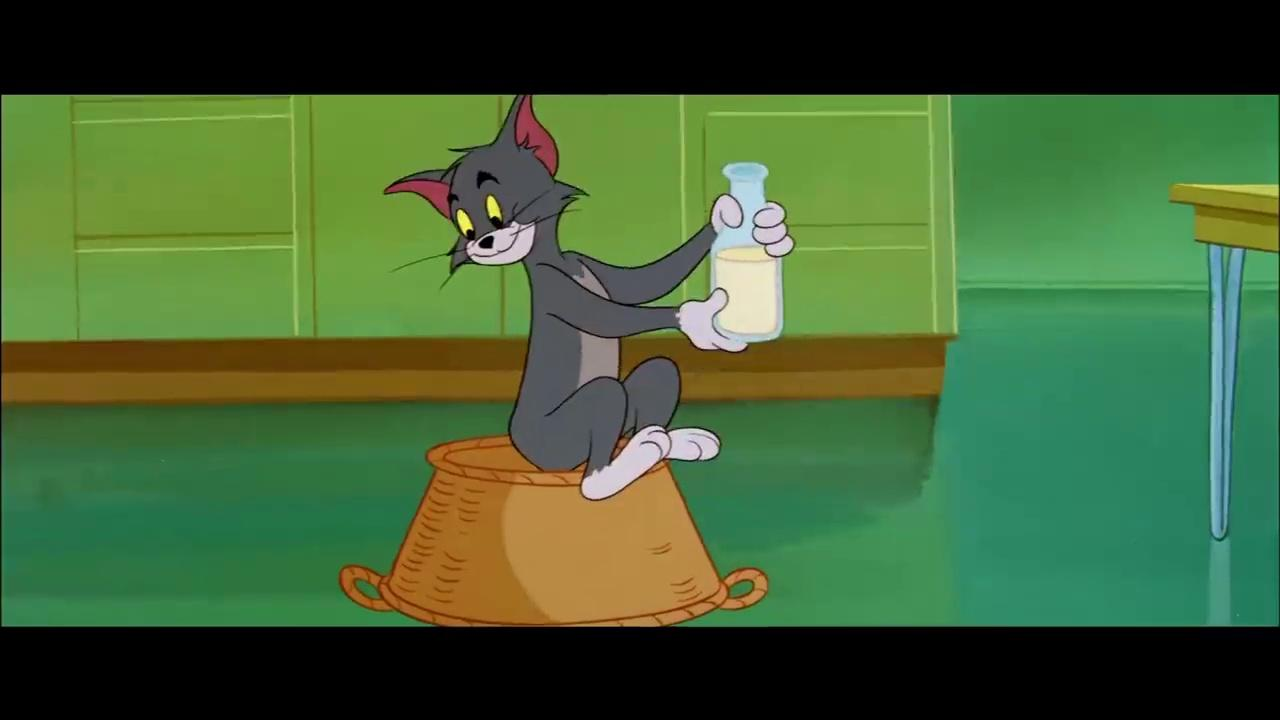Tom: (381, 93, 797, 502)
